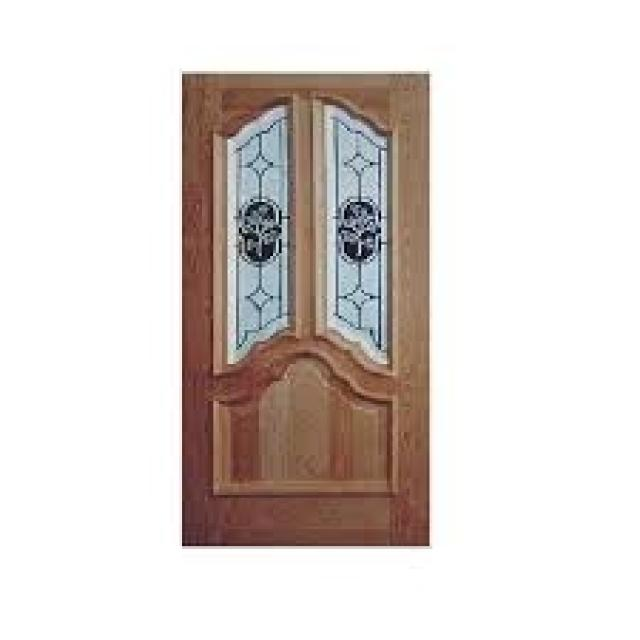door: (181, 71, 431, 546)
